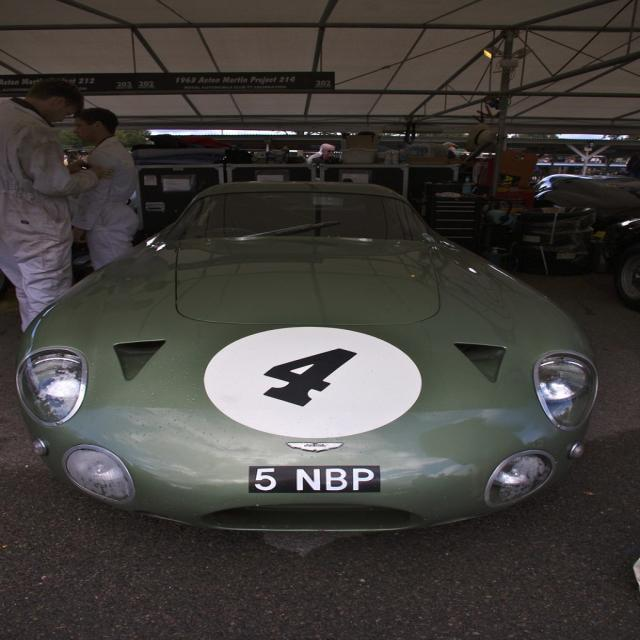car: (12, 180, 595, 530)
